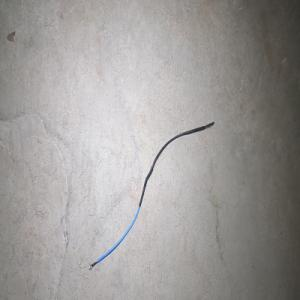Wire: (88, 121, 214, 270)
